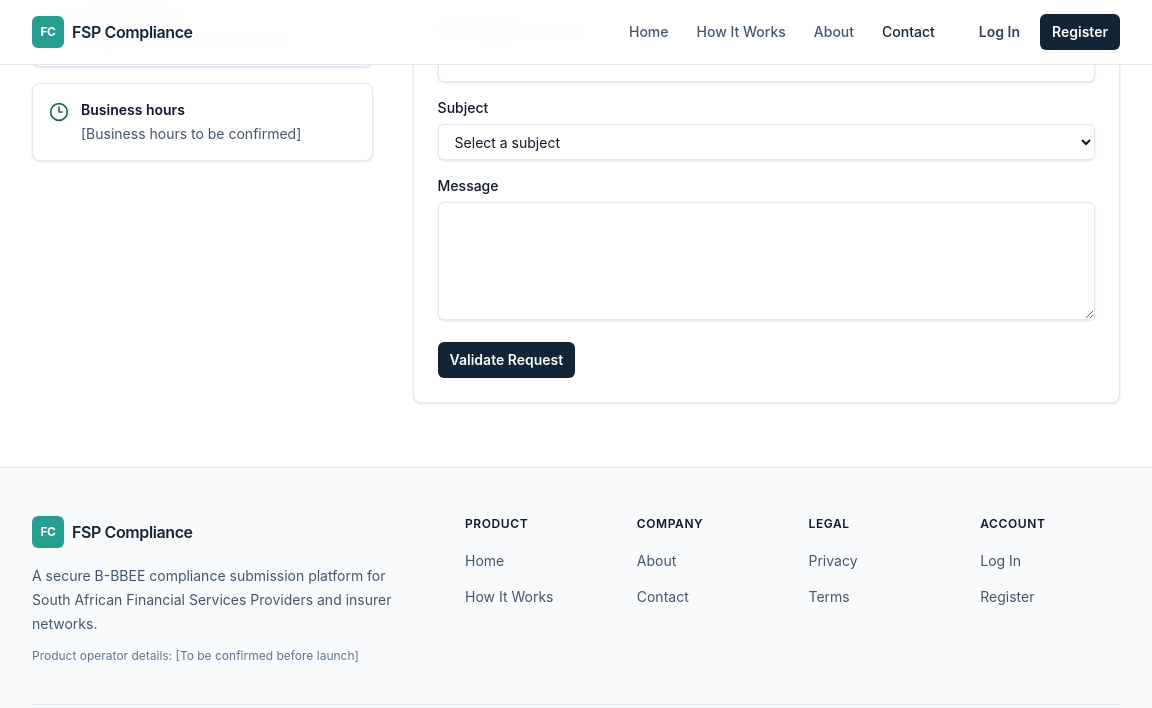
Scenario: public website › validates required contact fields without sending a message
This screenshot has width=1152, height=708.
(page scrolled)
Click the button "Validate Request". click: (506, 360)
box: 438,342 -> 575,378
(page scrolled)
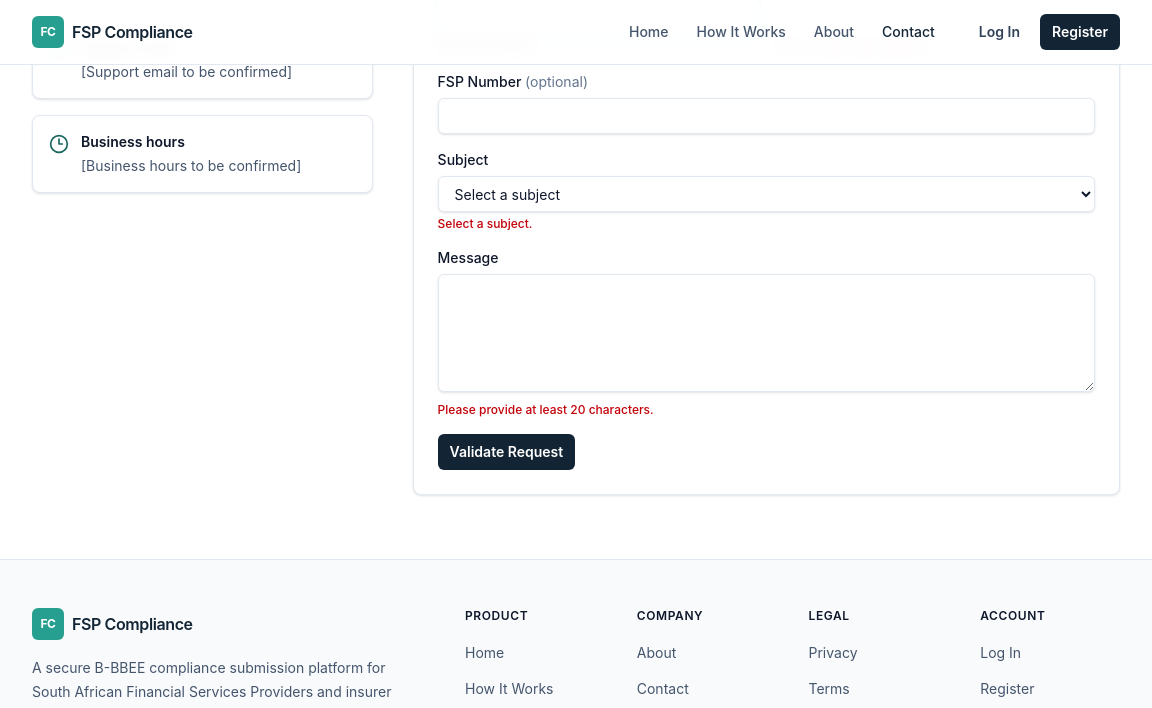
Now the text "Select a subject." is shown, box 438,216 -> 532,231
Now the text "Please provide at least 20 characters." is shown, box 438,402 -> 654,417
